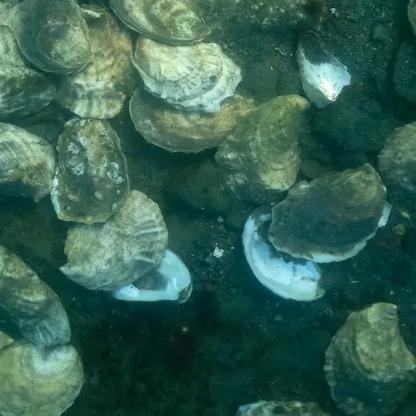Oyster-Closed: (269, 163, 392, 262), (60, 189, 169, 292), (323, 302, 416, 416), (49, 2, 139, 119), (215, 95, 311, 204), (130, 80, 257, 153), (49, 117, 129, 223), (132, 34, 240, 112), (0, 244, 72, 347), (0, 338, 83, 416), (12, 0, 93, 75), (110, 0, 212, 45), (0, 122, 56, 201), (377, 122, 416, 218), (0, 63, 57, 123), (233, 401, 330, 416)
